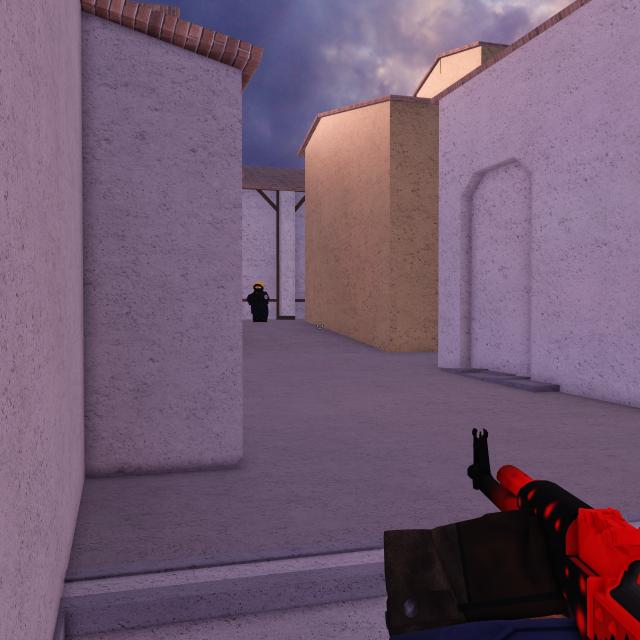Head: (252, 282, 264, 292)
Player: (247, 281, 270, 322)
